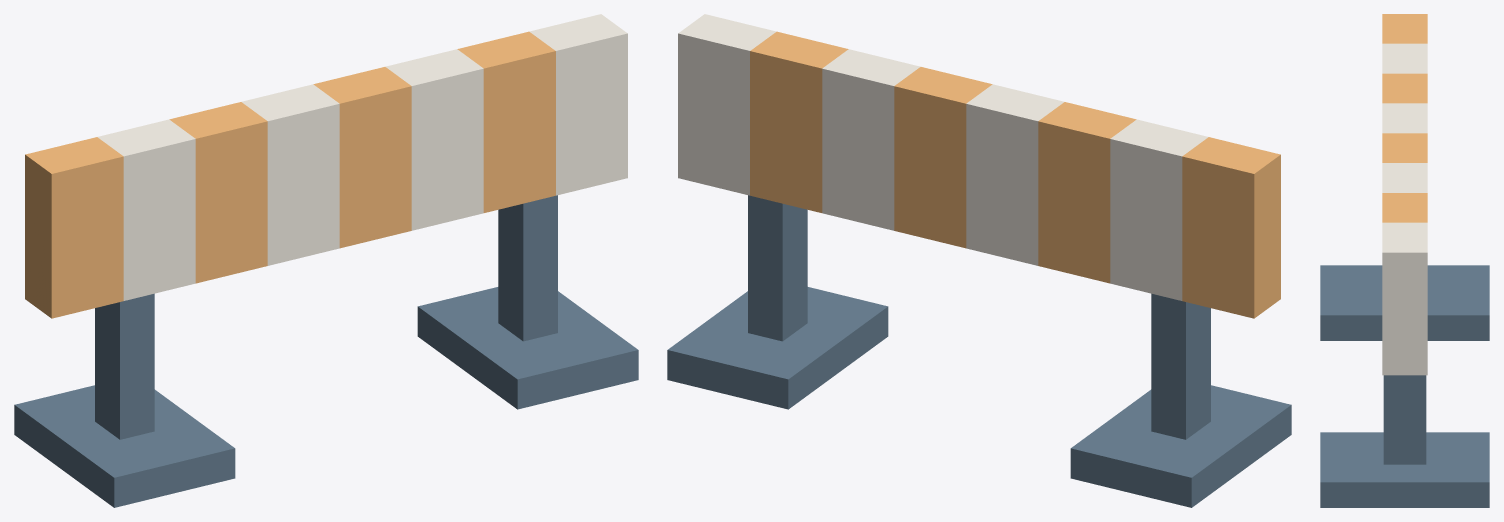
The model's file is 23_striped_barrier.glb.
3 views of the same model, side by side, from view 1: azimuth 30°, elevation 25°; view 2: azimuth 150°, elevation 25°; view 3: azimuth 270°, elevation 25° (orthographic). The views are drawn at different scales.
Parts seen in each view (by area): view 1: 23_striped_barrier; view 2: 23_striped_barrier; view 3: 23_striped_barrier.
Part boxes in pixels (x1,y1,x2,y2): 23_striped_barrier: (14, 14, 638, 507); 23_striped_barrier: (667, 14, 1291, 507); 23_striped_barrier: (1320, 14, 1489, 507).
Bounding box in the file's own units: 2 × 1.04 × 0.6.
